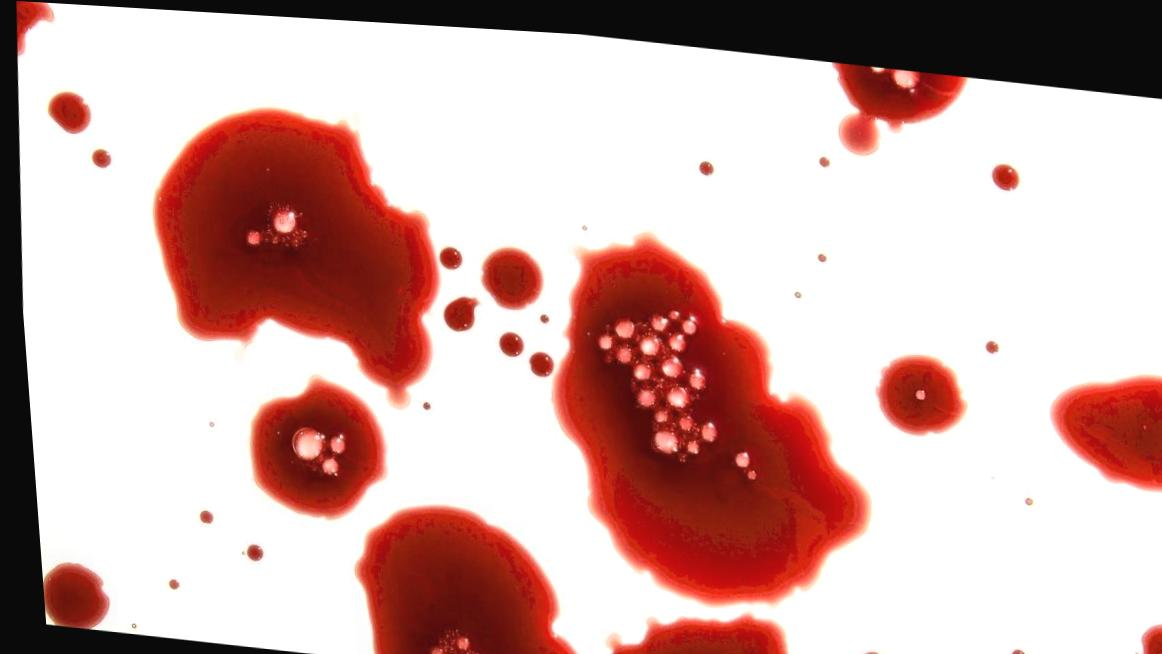Fire: (545, 222, 865, 597), (150, 103, 437, 403), (345, 499, 572, 654), (243, 369, 380, 516), (1044, 359, 1162, 478), (832, 51, 970, 144), (870, 342, 963, 424), (34, 561, 101, 628), (477, 239, 541, 304), (16, 1, 54, 56), (45, 89, 90, 133), (439, 289, 477, 325), (1132, 609, 1162, 654), (990, 150, 1018, 177), (524, 344, 549, 370), (494, 325, 520, 350), (436, 240, 459, 264), (849, 640, 880, 654), (239, 540, 256, 558), (192, 507, 206, 521)
